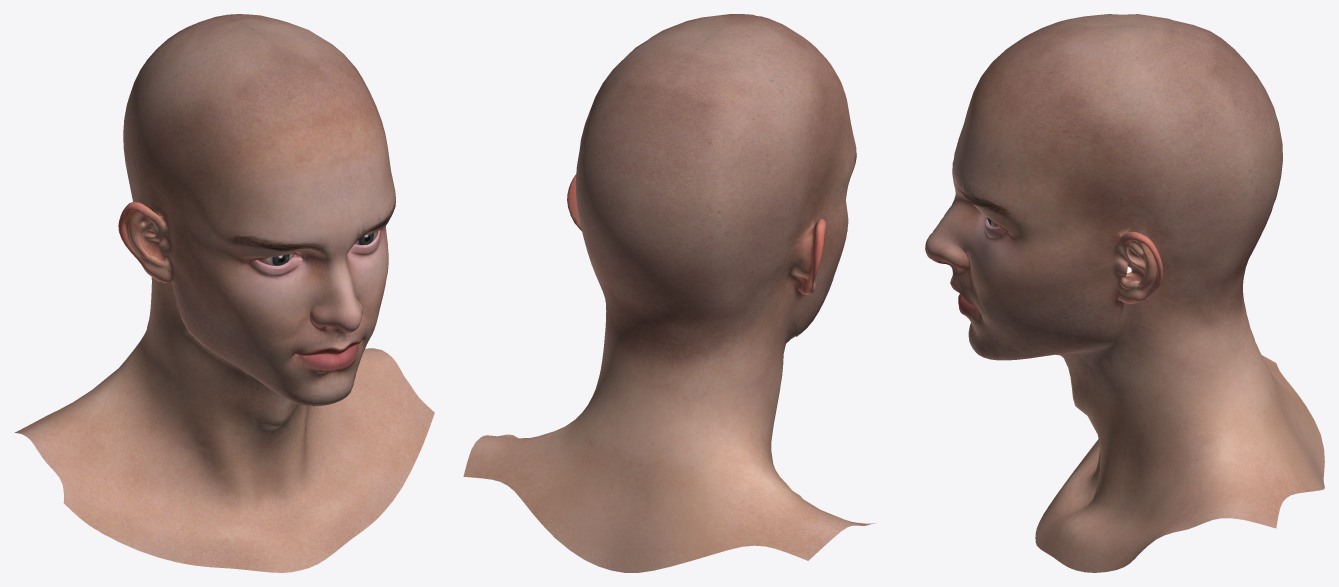
3 renders of one model, left to right at view 1: azimuth 30°, elevation 25°; view 2: azimuth 150°, elevation 25°; view 3: azimuth 270°, elevation 25°, orthographic. The views are drawn at different scales.
Parts seen in each view (by area): view 1: Object_2; view 2: Object_2; view 3: Object_2.
Part boxes in pixels (x1,y1,x2,y2): Object_2: (14, 14, 434, 572); Object_2: (463, 14, 874, 572); Object_2: (925, 14, 1324, 572).
Bounding box in the file's own units: 25.9 × 33.76 × 23.88.
Materials: 1 (1 with a texture image).
